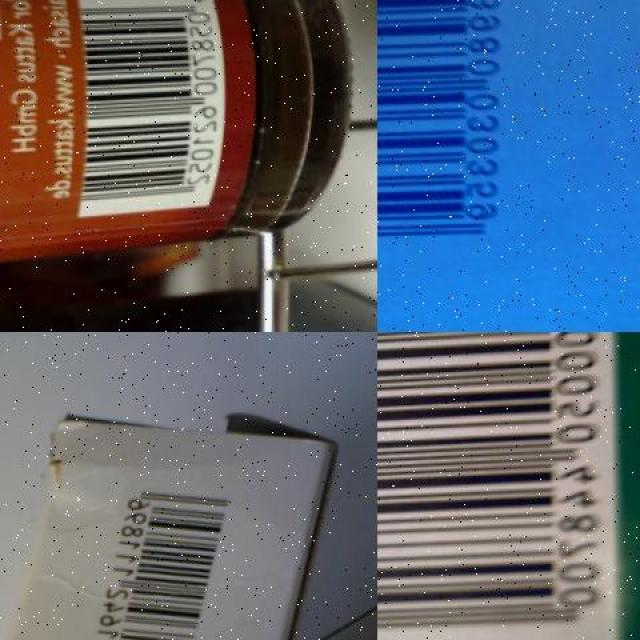Barcode: (378, 332, 630, 640), (377, 0, 547, 269), (74, 0, 230, 216), (68, 469, 247, 640)
